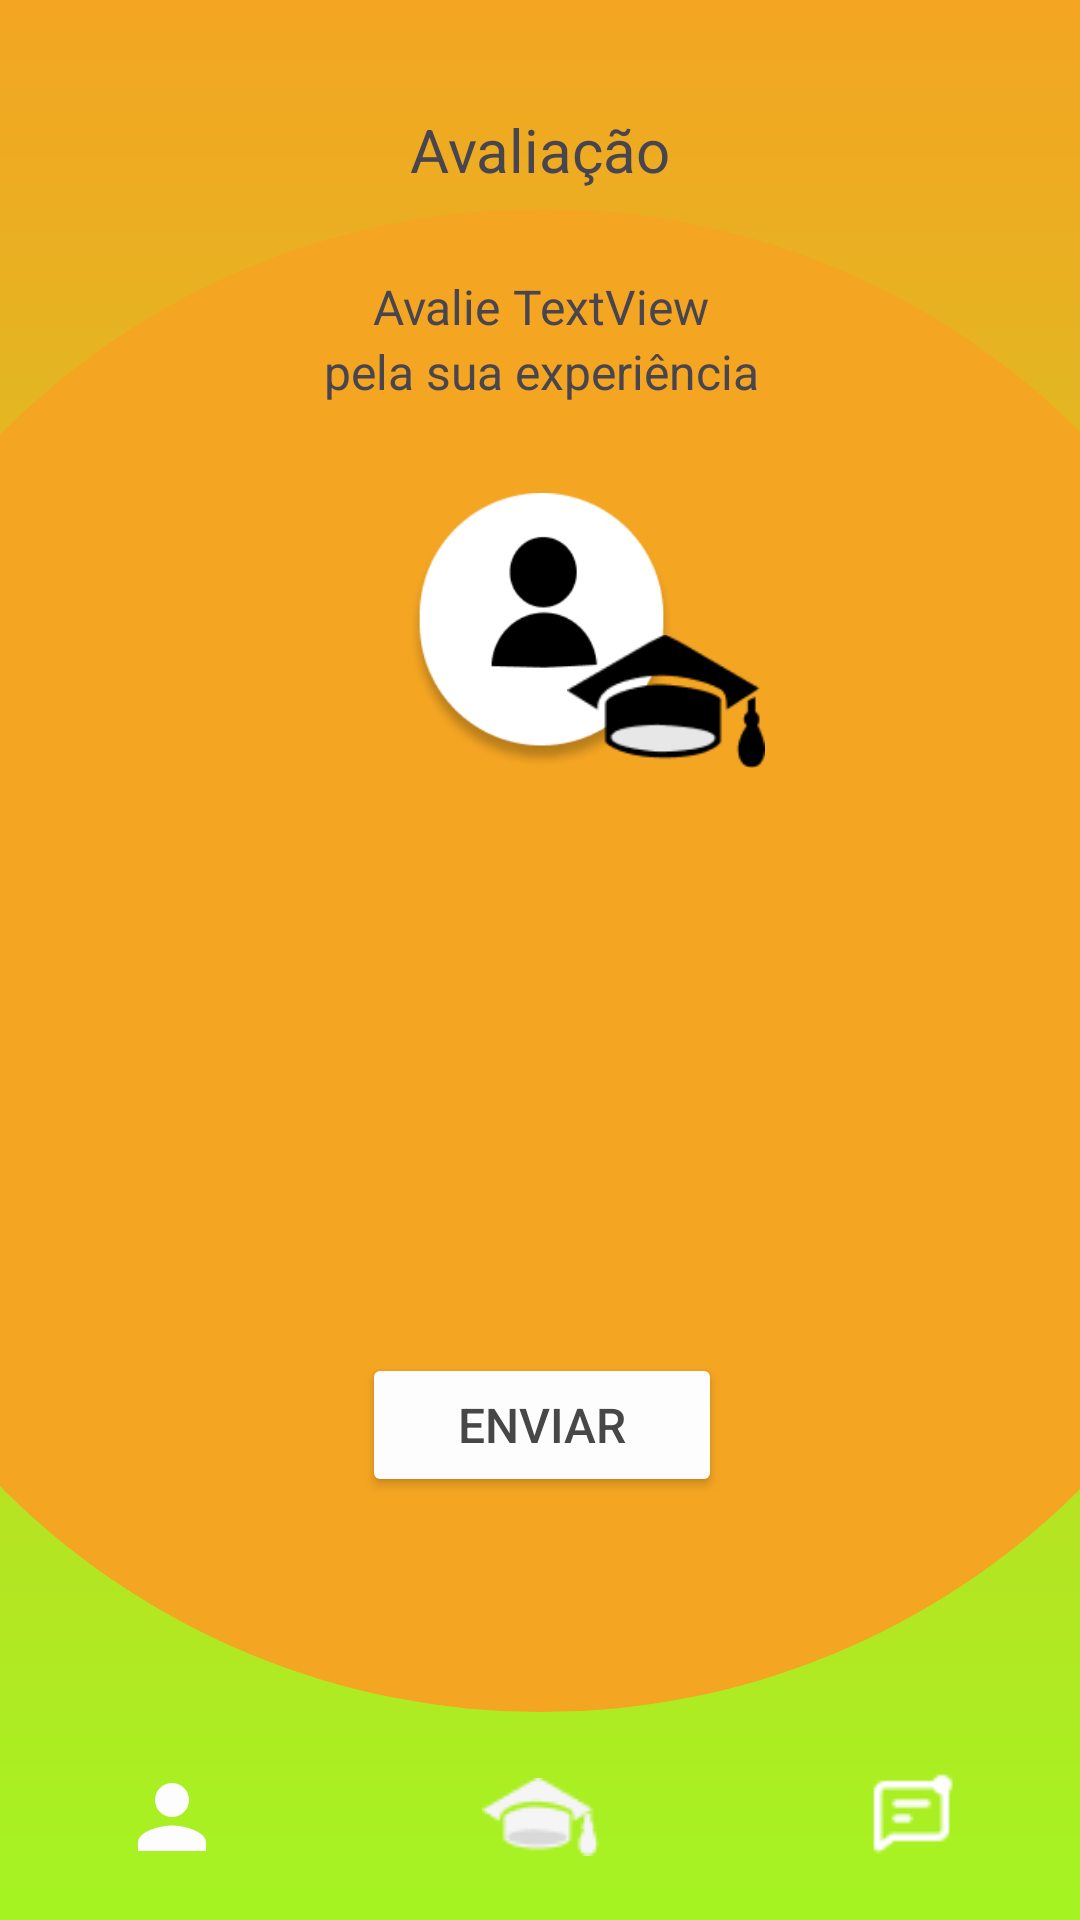

Point at icon controls on the screen. Image size 1080*1920, points as [x,y].
notifimenuwhite: [913,1814]
person: [172,1817]
